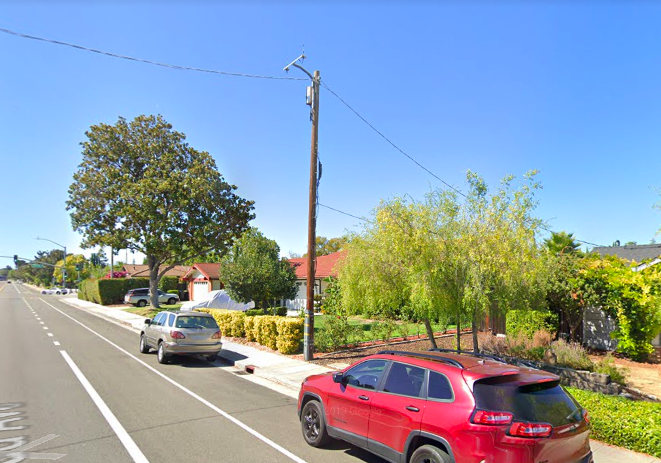tree: (63, 112, 258, 308)
utility_pole: (278, 43, 331, 126)
